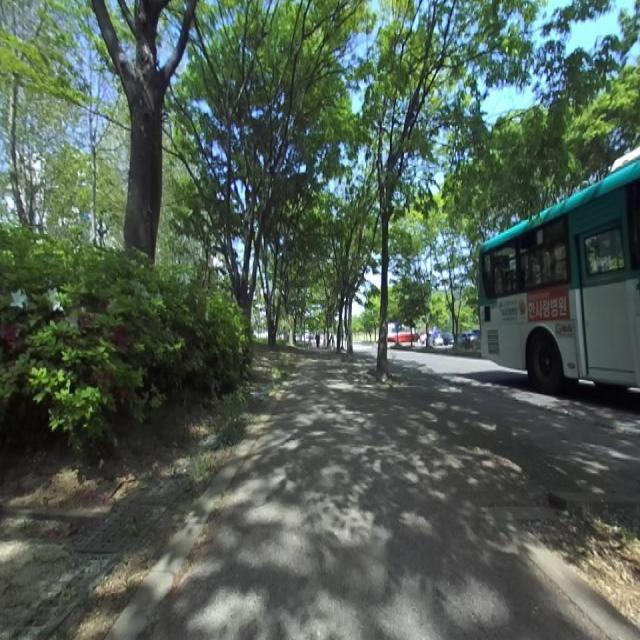sidewalk: (138, 353, 604, 640)
